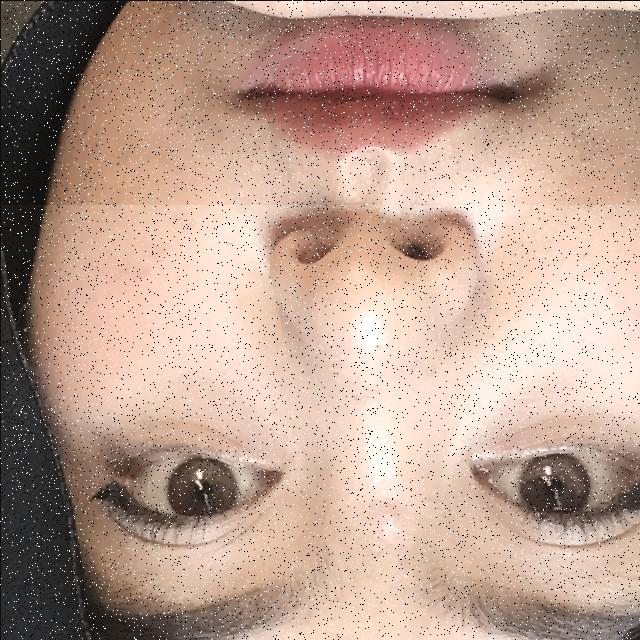sedih: (0, 0, 640, 204)
